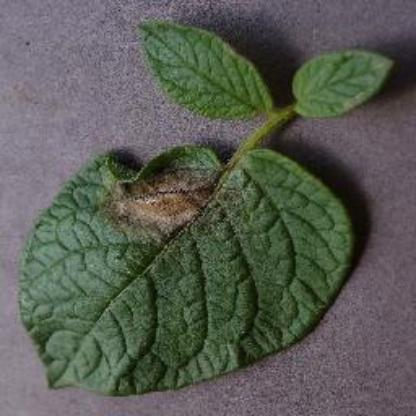Late-Blight: (16, 12, 394, 396)
